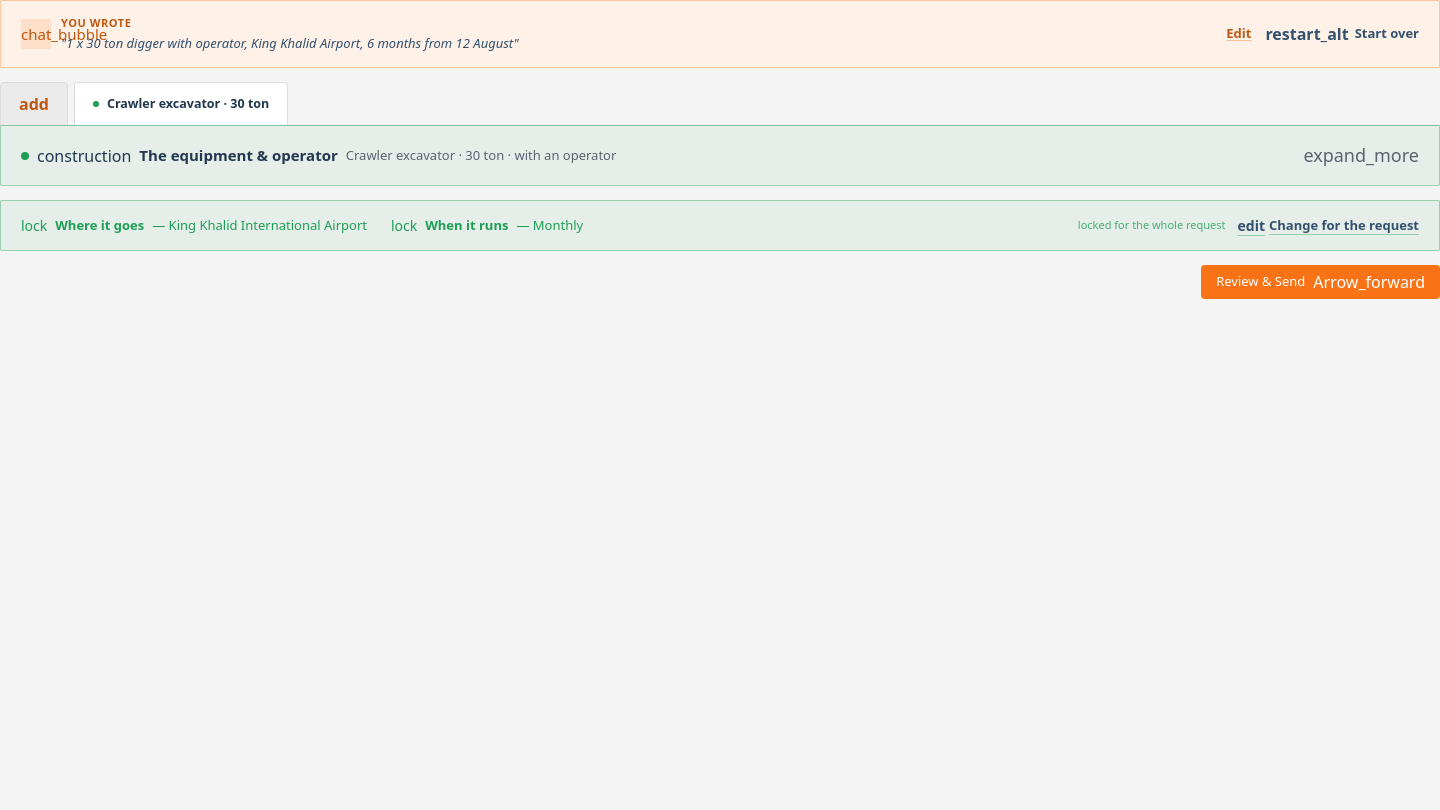
Test: the canvas is an accordion › reopens from the strip, which closes whichever was open
Expected: the text "TYPE" is not shown
Click the button that starts with "construction" at coordinates (84, 156), box [0,125,1439,186]
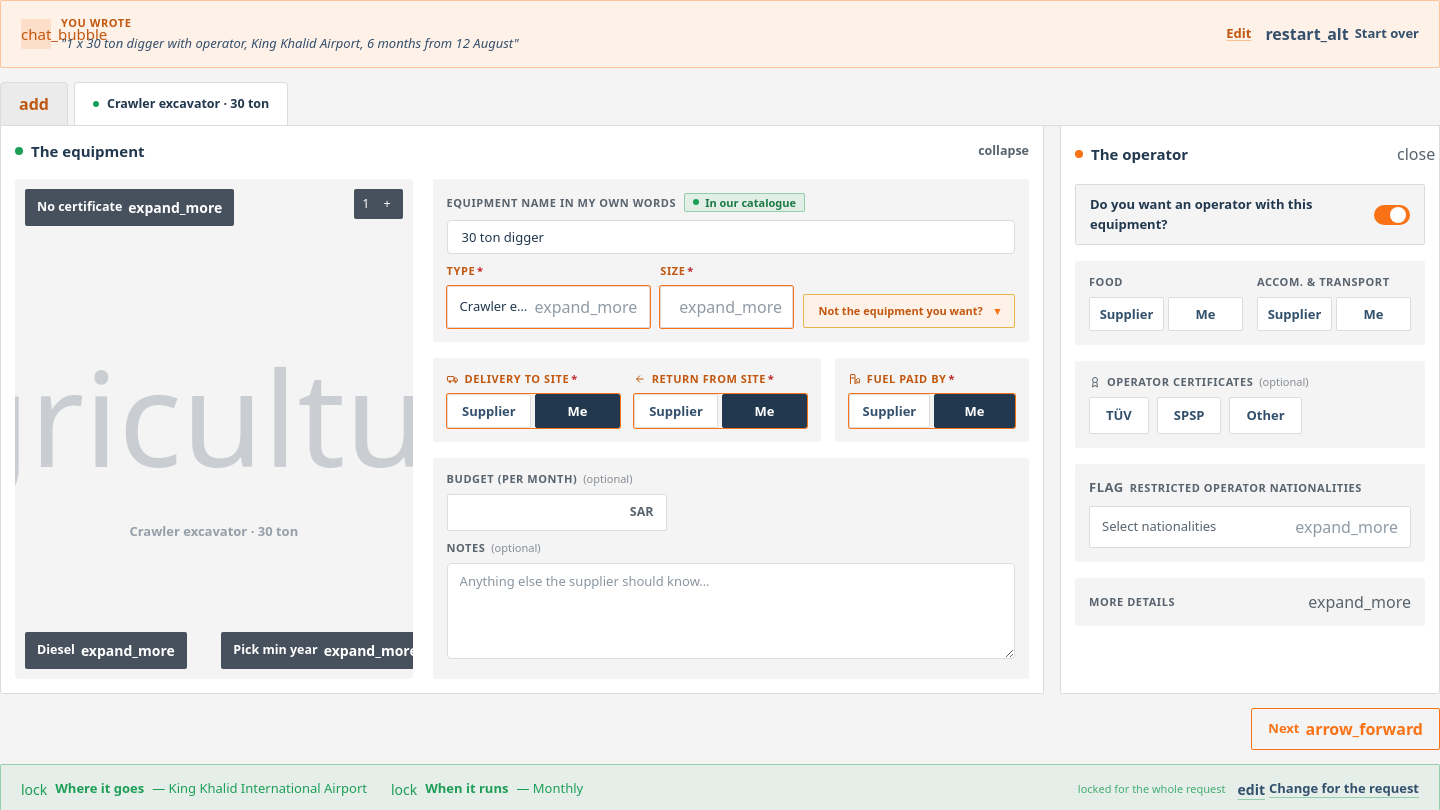
Expected: the text "TYPE" is shown, [447,263,475,278]
